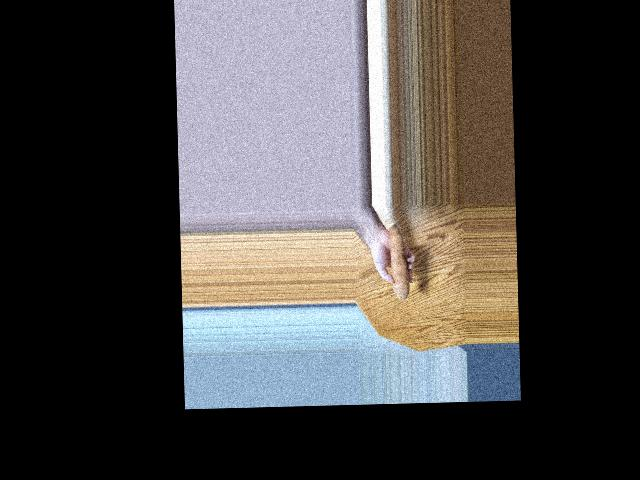sweet_potato: (389, 225, 415, 303)
